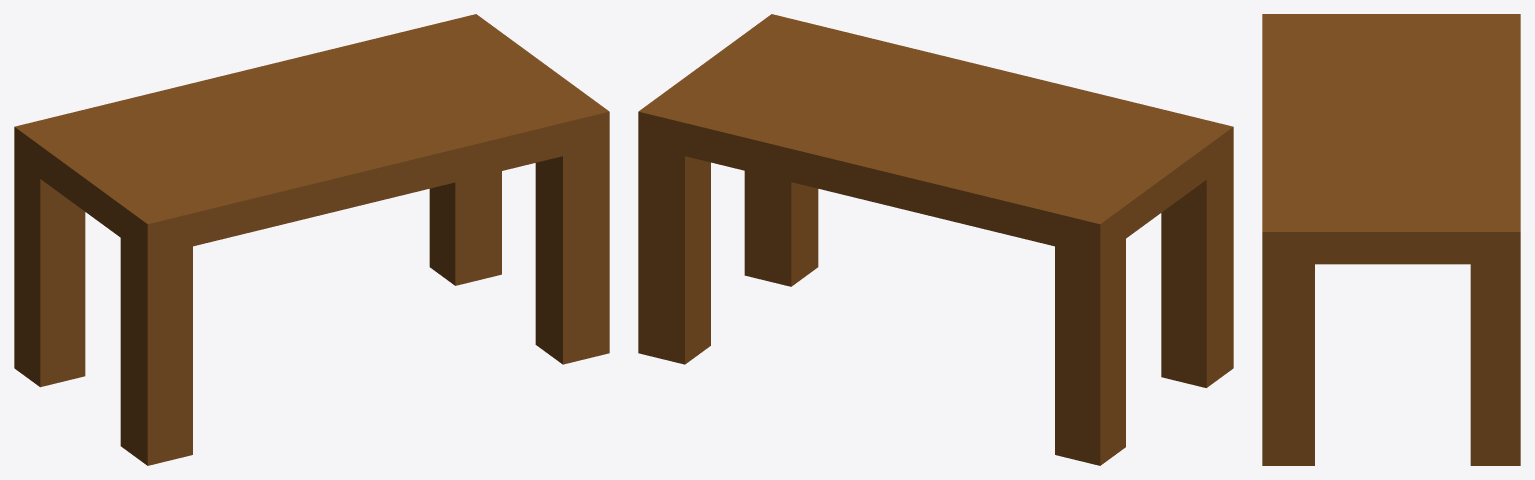
The model's file is table.fbx.
3 views of the same model, side by side, from view 1: azimuth 30°, elevation 25°; view 2: azimuth 150°, elevation 25°; view 3: azimuth 270°, elevation 25° (orthographic). The views are drawn at different scales.
Parts seen in each view (by area): view 1: Cube; view 2: Cube; view 3: Cube.
Part boxes in pixels (x1=…): Cube: x1=14, y1=14, x2=609, y2=465; Cube: x1=638, y1=14, x2=1233, y2=465; Cube: x1=1262, y1=14, x2=1520, y2=465.
Bounding box in the file's own units: 200 × 100 × 100.
